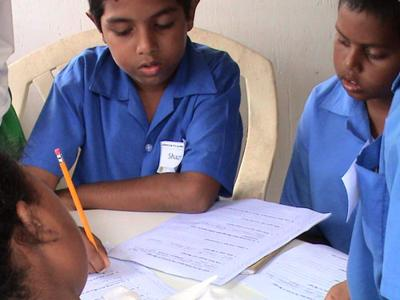person: (24, 2, 243, 266)
